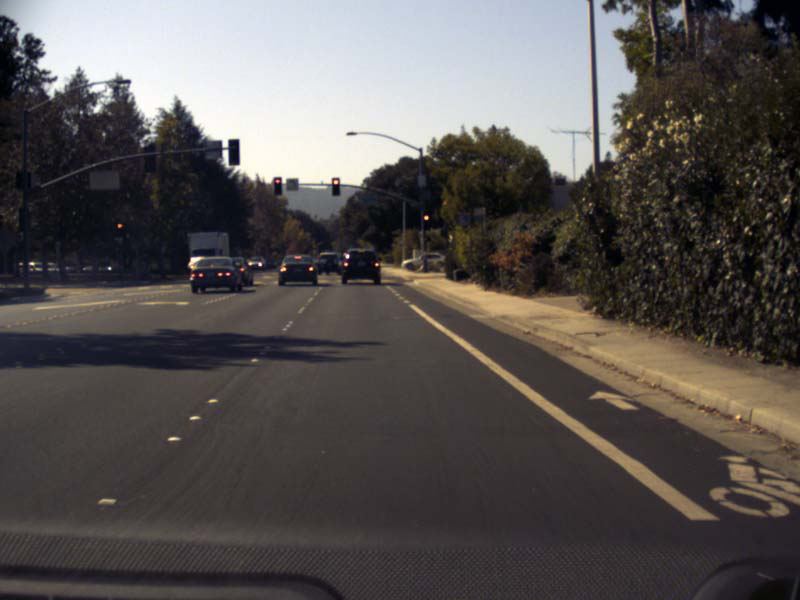Red: (116, 221, 124, 240), (273, 177, 281, 194), (332, 178, 339, 195), (422, 212, 430, 224)
